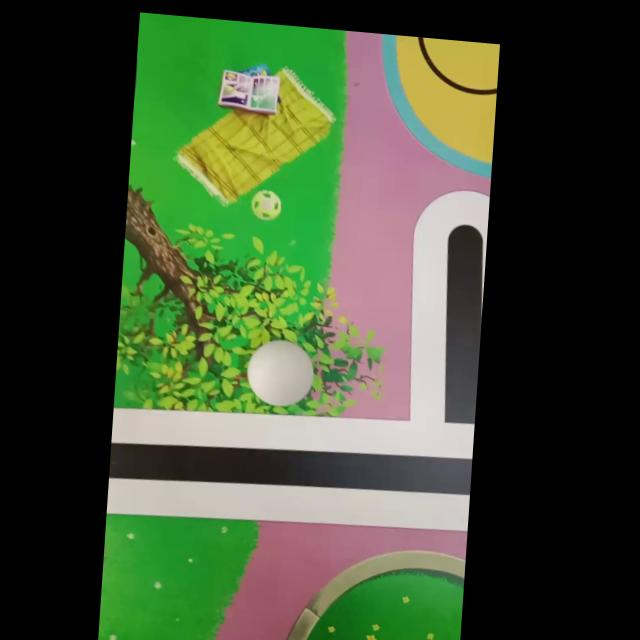white ball: (244, 336, 316, 409)
